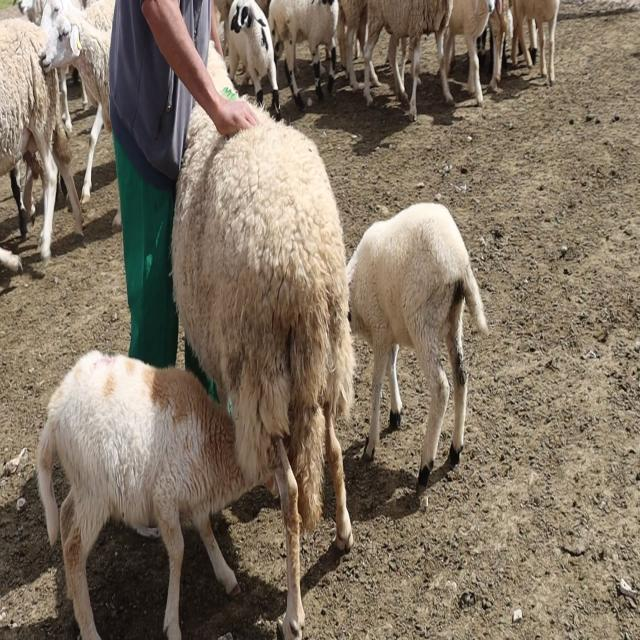Score_5: (172, 42, 355, 639)
